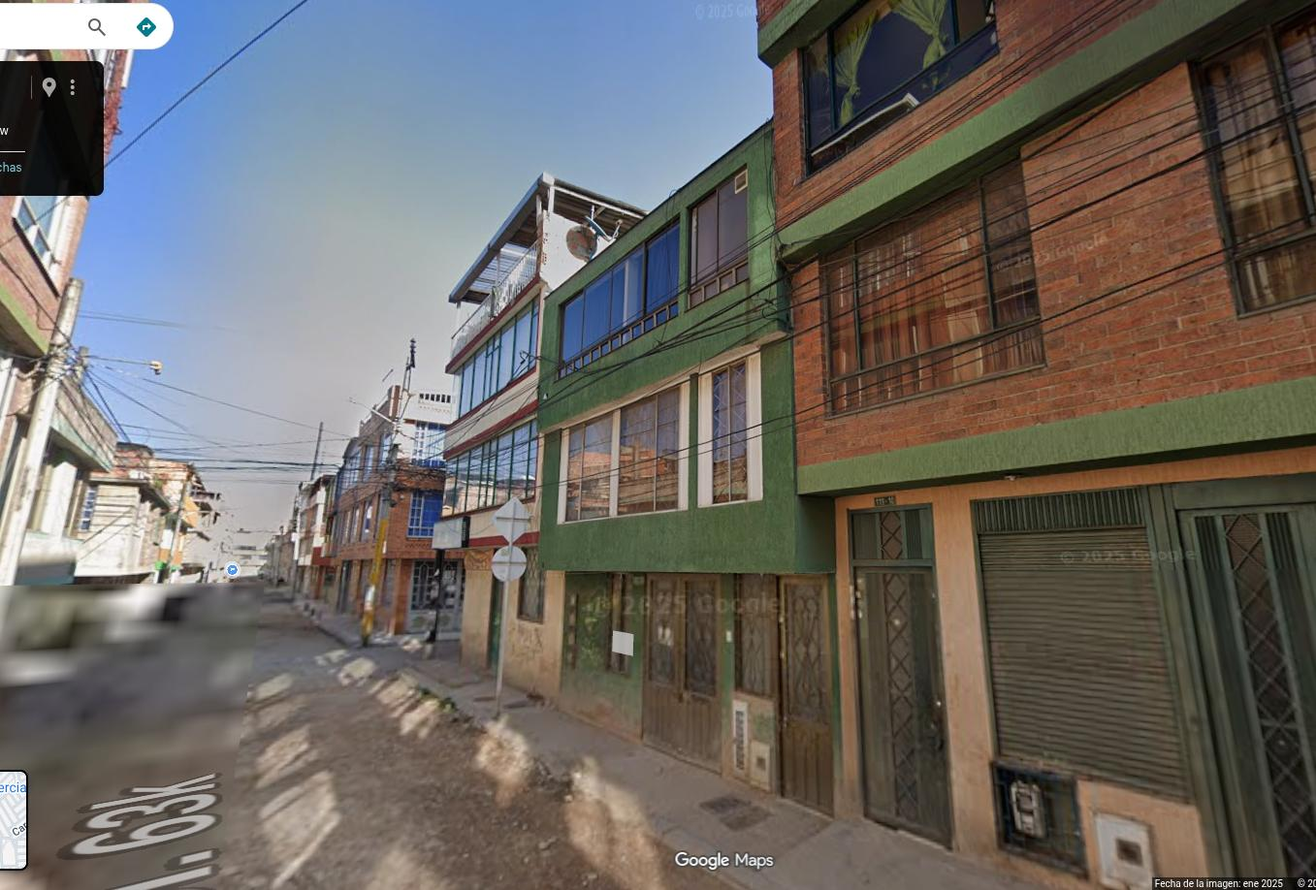casa: (758, 0, 1315, 889), (536, 122, 839, 813), (435, 174, 610, 696)
poste: (0, 278, 80, 584), (157, 468, 193, 582)
